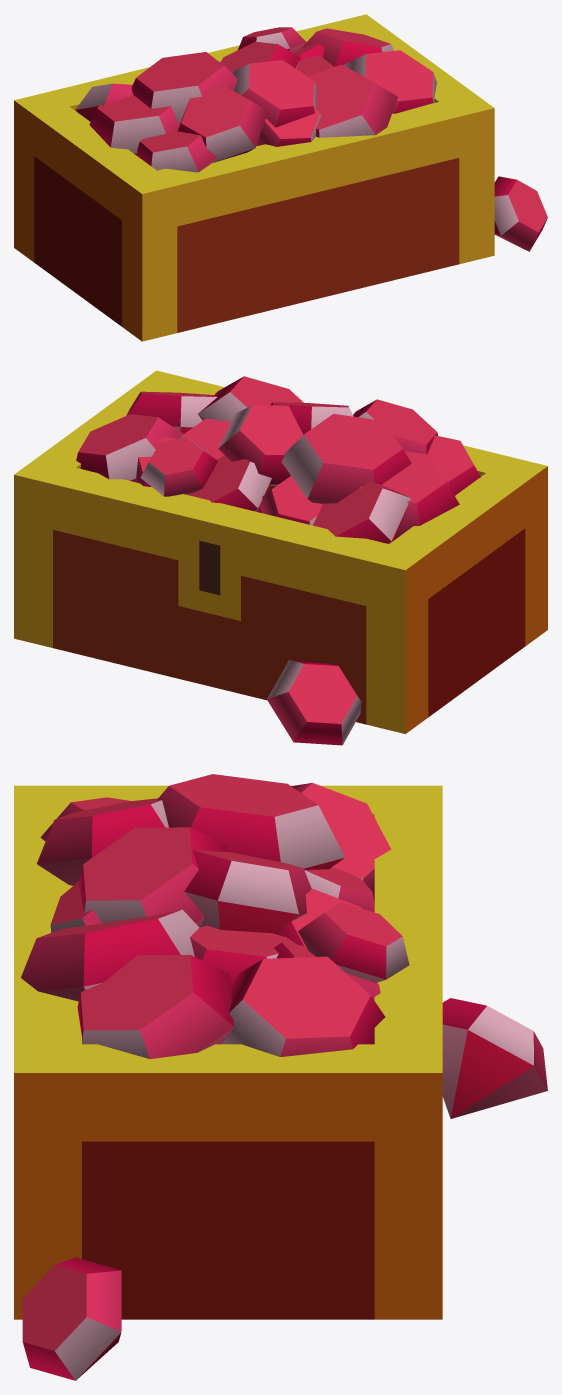
The model's file is GemChest_Small.fbx.
3 views of the same model, one above another, from view 1: azimuth 30°, elevation 25°; view 2: azimuth 150°, elevation 25°; view 3: azimuth 270°, elevation 25° (orthographic). The views are drawn at different scales.
Parts seen in each view (by area): view 1: GemChest_small; view 2: GemChest_small; view 3: GemChest_small.
Part boxes in pixels (x1,y1,x2,y2): GemChest_small: (14,14,547,341); GemChest_small: (14,370,547,745); GemChest_small: (14,774,547,1380).
Size of the model in its own units: 214 by 103 by 141.
